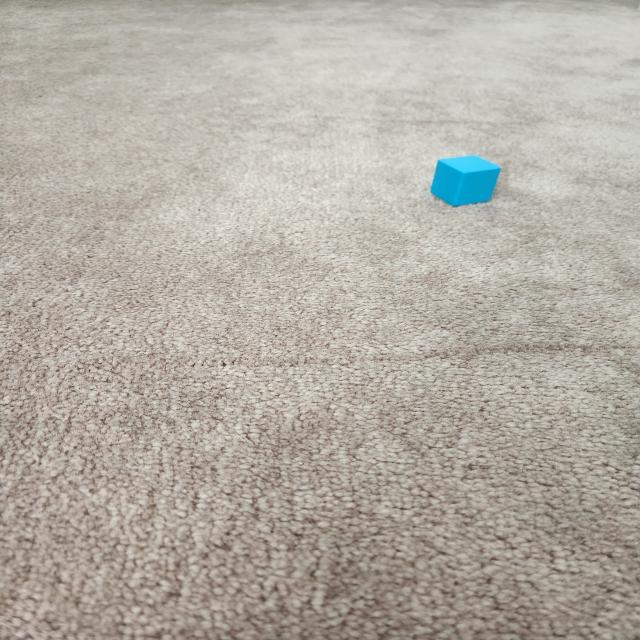bluecube: (432, 154, 499, 206)
